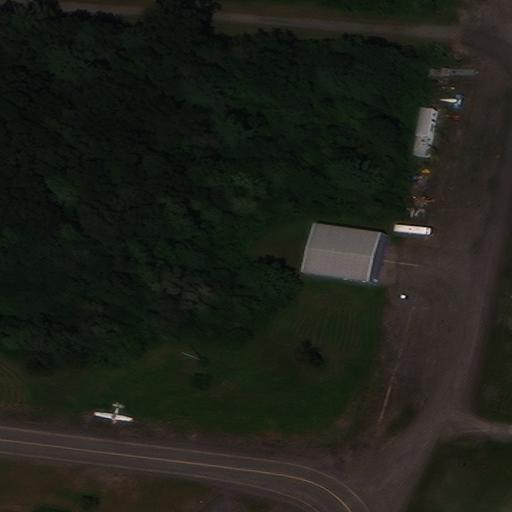Small Civil Transport: (94, 402, 132, 424)
